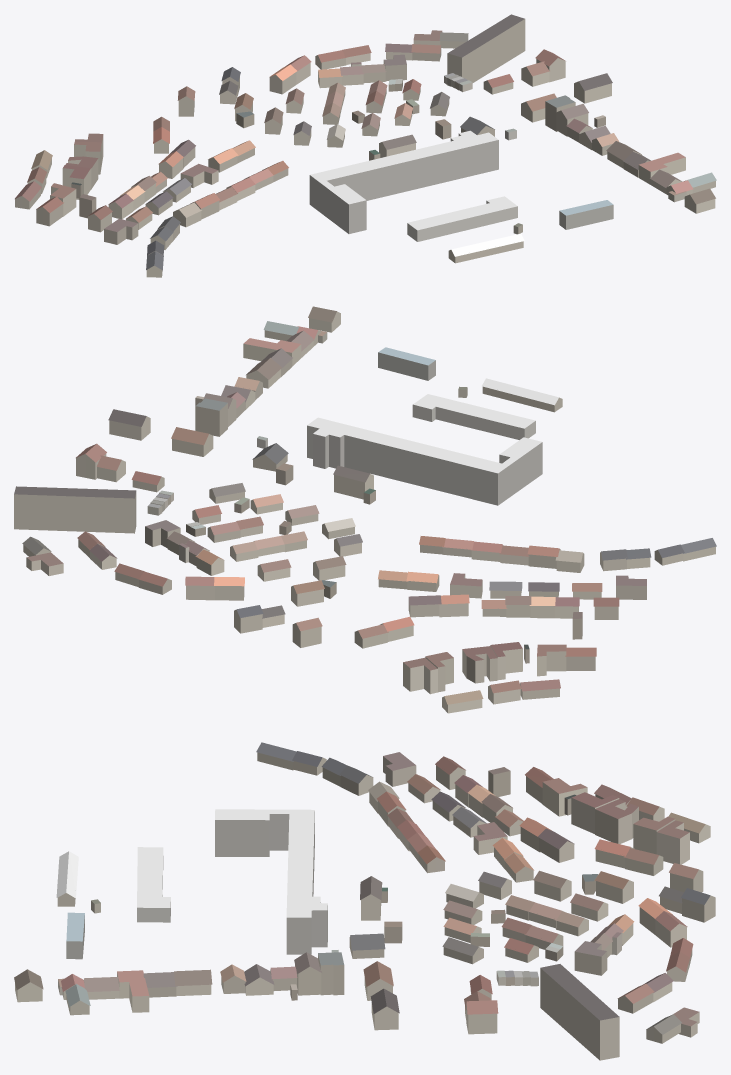
3 views of the same model, one above another, from view 1: azimuth 30°, elevation 25°; view 2: azimuth 150°, elevation 25°; view 3: azimuth 270°, elevation 25° (orthographic). The views are drawn at different scales.
Parts seen in each view (by area): view 1: tuile; view 2: tuile; view 3: tuile.
Part boxes in pixels (box(x1,y1,x2,y2)): tuile: box(15, 14, 716, 277); tuile: box(14, 306, 716, 713); tuile: box(14, 742, 715, 1060).
Bounding box in the file's own units: 265 × 41.36 × 253.
